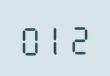one: (43, 20, 66, 55)
two: (67, 19, 90, 55)
zero: (18, 20, 41, 56)
